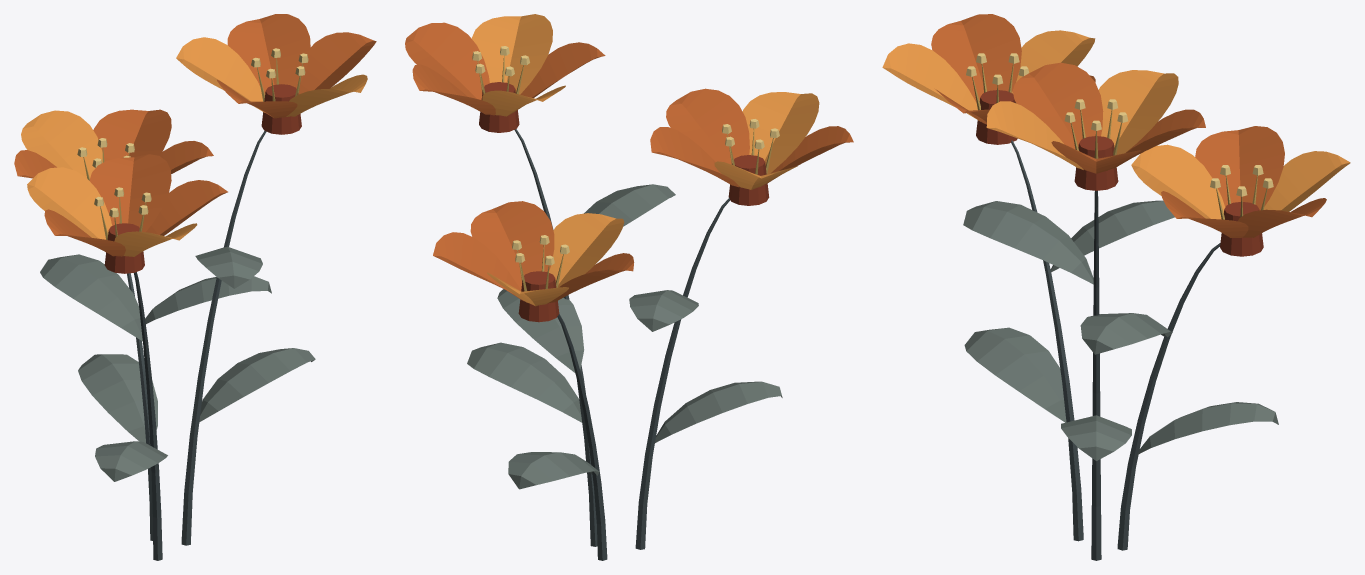
Rendered from EMBER_BLOOM.hi.glb.
3 renders of one model, left to right at view 1: azimuth 30°, elevation 25°; view 2: azimuth 150°, elevation 25°; view 3: azimuth 270°, elevation 25°, orthographic. The views are drawn at different scales.
Parts seen in each view (by area): view 1: EMBER_BLOOM; view 2: EMBER_BLOOM; view 3: EMBER_BLOOM.
Part boxes in pixels (x1,y1,x2,y2): EMBER_BLOOM: [14, 14, 376, 560]; EMBER_BLOOM: [405, 14, 853, 560]; EMBER_BLOOM: [882, 14, 1350, 560].
Bounding box in the file's own units: 0.3275 × 0.3821 × 0.3207.
Materials: 1 (1 with a texture image).
